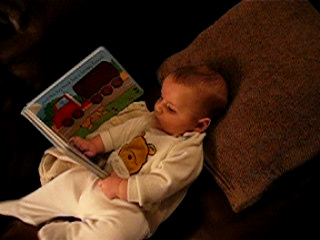person: (1, 65, 227, 240)
